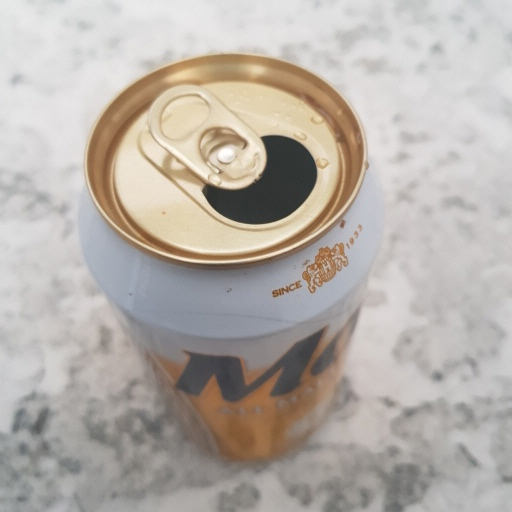Metal_0: (78, 52, 380, 460)
